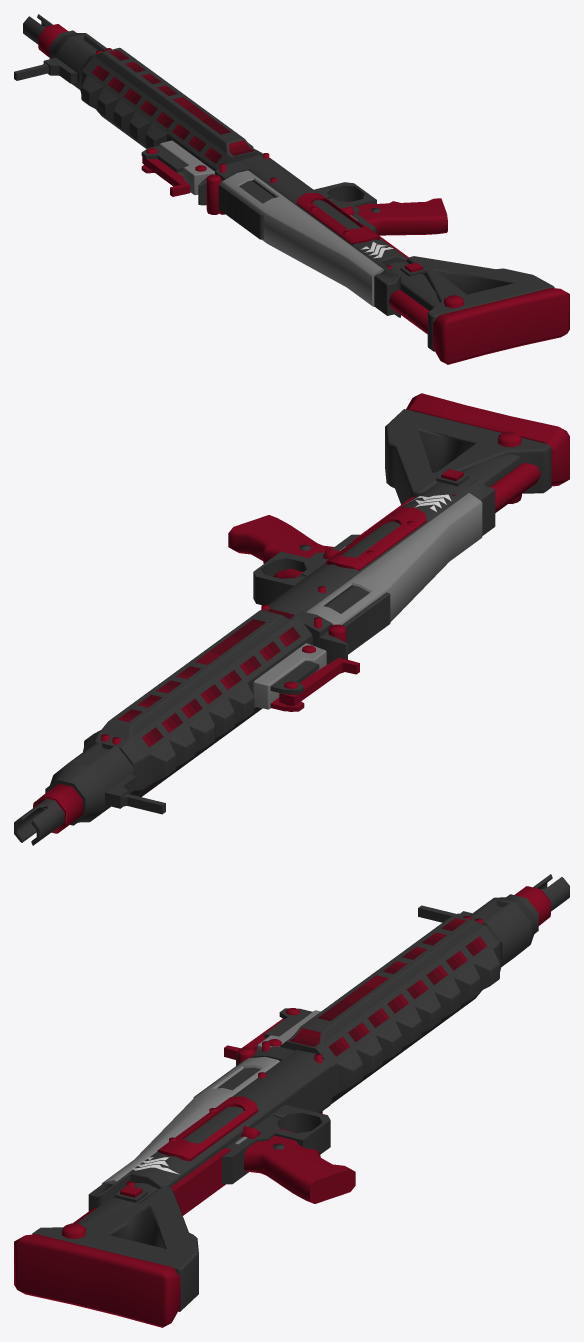
Rendered from izumi.glb.
3 views of the same model, one above another, from view 1: azimuth 30°, elevation 25°; view 2: azimuth 150°, elevation 25°; view 3: azimuth 330°, elevation 25° (orthographic). The views are drawn at different scales.
Parts seen in each view (by area): view 1: Izumi_Original_Weapon; view 2: Izumi_Original_Weapon; view 3: Izumi_Original_Weapon.
Part boxes in pixels (x1=…): Izumi_Original_Weapon: x1=14, y1=14, x2=569, y2=364; Izumi_Original_Weapon: x1=14, y1=393, x2=569, y2=845; Izumi_Original_Weapon: x1=14, y1=874, x2=569, y2=1327.
Size of the model in its own units: 0.2072 by 0.0689 by 0.8198.
Materials: 1 (1 with a texture image).
